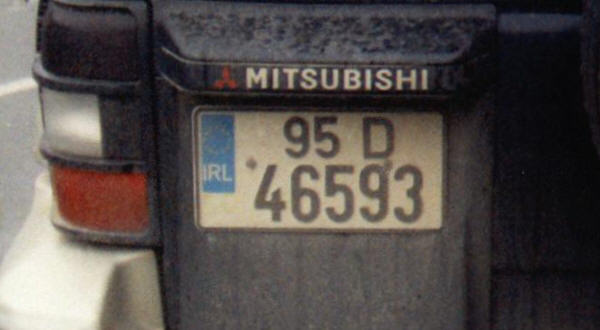license_plate: (193, 106, 449, 236)
